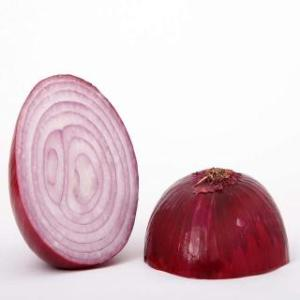onion: (9, 72, 139, 268), (146, 166, 290, 280)
